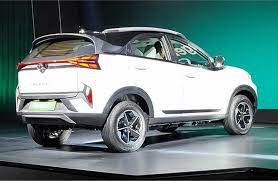Tata Nexon: (15, 25, 258, 154)
